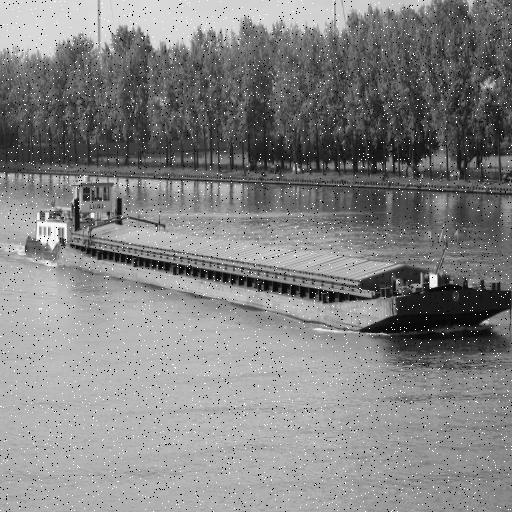tugboat: (22, 173, 132, 279)
